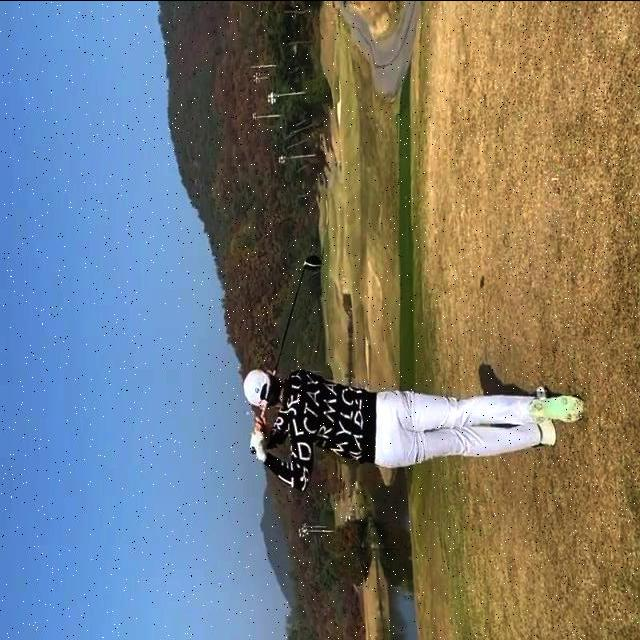ClubHandle: (250, 254, 322, 453)
ClubHead: (303, 254, 322, 270)
